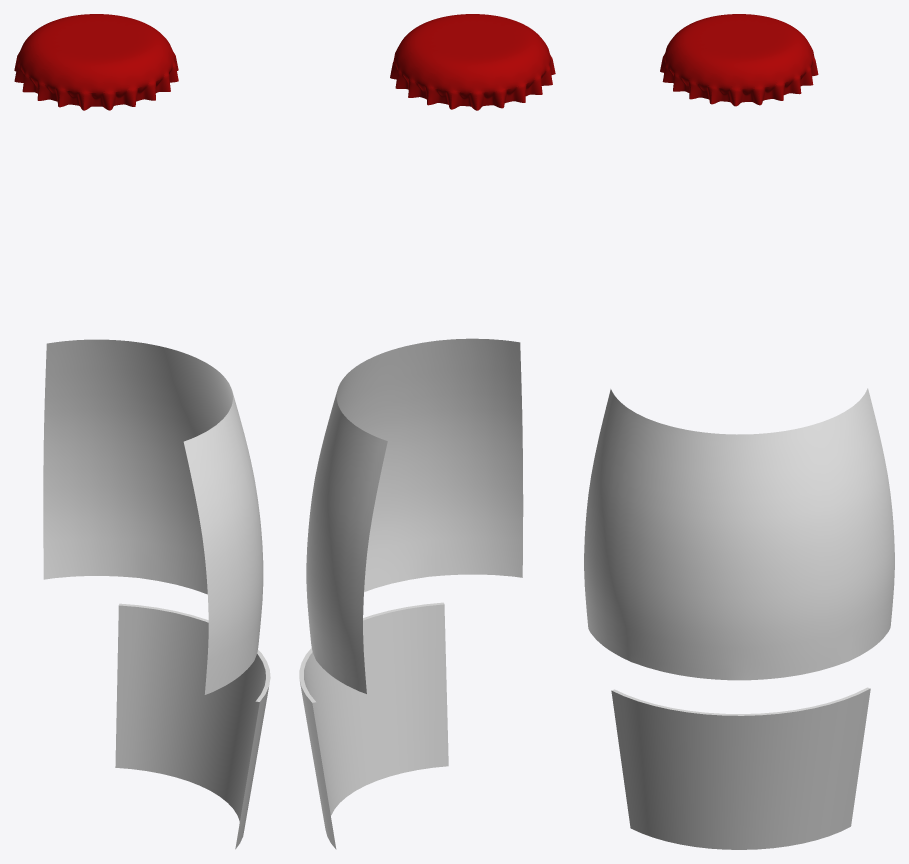
Rendered from bouteille.gltf.
The picture shows the model from 3 angles, left to right: view 1: azimuth 30°, elevation 25°; view 2: azimuth 150°, elevation 25°; view 3: azimuth 270°, elevation 25°; orthographic projection. The views are drawn at different scales.
Visible parts, largest first — view 1: Label, Tube, Bottle Cap-Red, Bottle Cap-Steel; view 2: Label, Tube, Bottle Cap-Red, Bottle Cap-Steel; view 3: Label, Tube, Bottle Cap-Red, Bottle Cap-Steel.
Boxes of the visible parts, left/top/right/bottom form: Label: left=43, top=339, right=263, bottom=694; Tube: left=115, top=603, right=270, bottom=849; Bottle Cap-Red: left=17, top=14, right=175, bottom=95; Bottle Cap-Steel: left=14, top=56, right=178, bottom=110; Label: left=306, top=338, right=523, bottom=693; Tube: left=299, top=602, right=448, bottom=849; Bottle Cap-Red: left=393, top=14, right=552, bottom=95; Bottle Cap-Steel: left=390, top=54, right=555, bottom=110; Label: left=584, top=388, right=894, bottom=680; Tube: left=611, top=687, right=870, bottom=849; Bottle Cap-Red: left=662, top=14, right=815, bottom=92; Bottle Cap-Steel: left=660, top=52, right=818, bottom=106.
Size of what is drawn, in the model's own units: 11.52 by 39.07 by 14.6.
